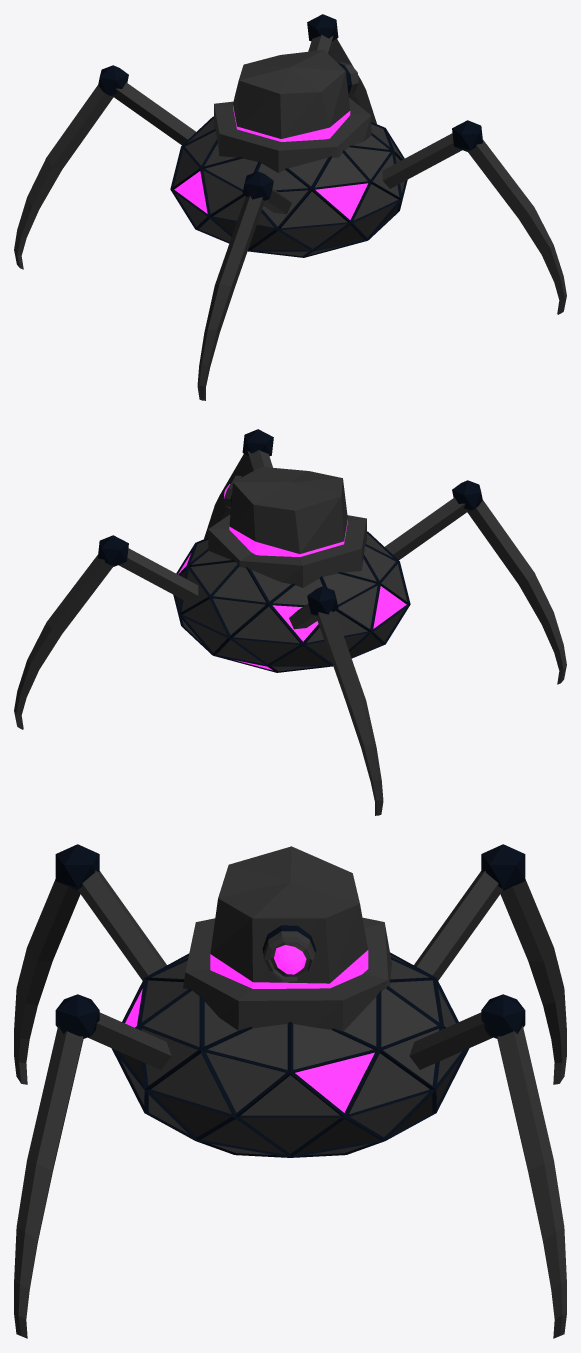
File: MO_Walker_.fbx
The picture shows the model from 3 angles, top to bottom: view 1: azimuth 30°, elevation 25°; view 2: azimuth 150°, elevation 25°; view 3: azimuth 270°, elevation 25°; orthographic projection. The views are drawn at different scales.
Parts seen in each view (by area): view 1: spider, flegr.002, flegr.001, flegr.003, flegr.004, flegr.006, flegr.005, flegr.007, flegr; view 2: spider, flegr.001, flegr.002, flegr, flegr.007, flegr.005, flegr.006, flegr.004, flegr.003; view 3: spider, flegr.003, flegr, flegr.005, flegr.006, flegr.001, flegr.002, flegr.004, flegr.007.
Boxes of the visible parts, x1,y1,x2,y2 form: spider: (170,50,407,257); flegr.002: (197,196,264,400); flegr.001: (14,85,113,269); flegr.003: (466,139,566,314); flegr.004: (382,120,482,188); flegr.006: (98,65,195,144); flegr.005: (242,171,291,214); flegr.007: (307,14,338,52); flegr: (328,39,376,123); spider: (173,466,410,672); flegr.001: (316,611,383,815); flegr.002: (467,500,566,684); flegr: (14,554,114,729); flegr.007: (98,535,198,603); flegr.005: (385,480,482,559); flegr.006: (289,586,338,629); flegr.004: (242,429,273,470); flegr.003: (204,454,253,538); spider: (111,846,469,1157); flegr.003: (14,1026,83,1338); flegr: (497,1026,566,1338); flegr.005: (55,844,166,980); flegr.006: (414,844,525,980); flegr.001: (500,879,566,1084); flegr.002: (14,879,80,1084); flegr.004: (55,994,171,1069); flegr.007: (409,994,525,1069).
Bounding box in the file's own units: 40.12 × 23.43 × 35.58.
